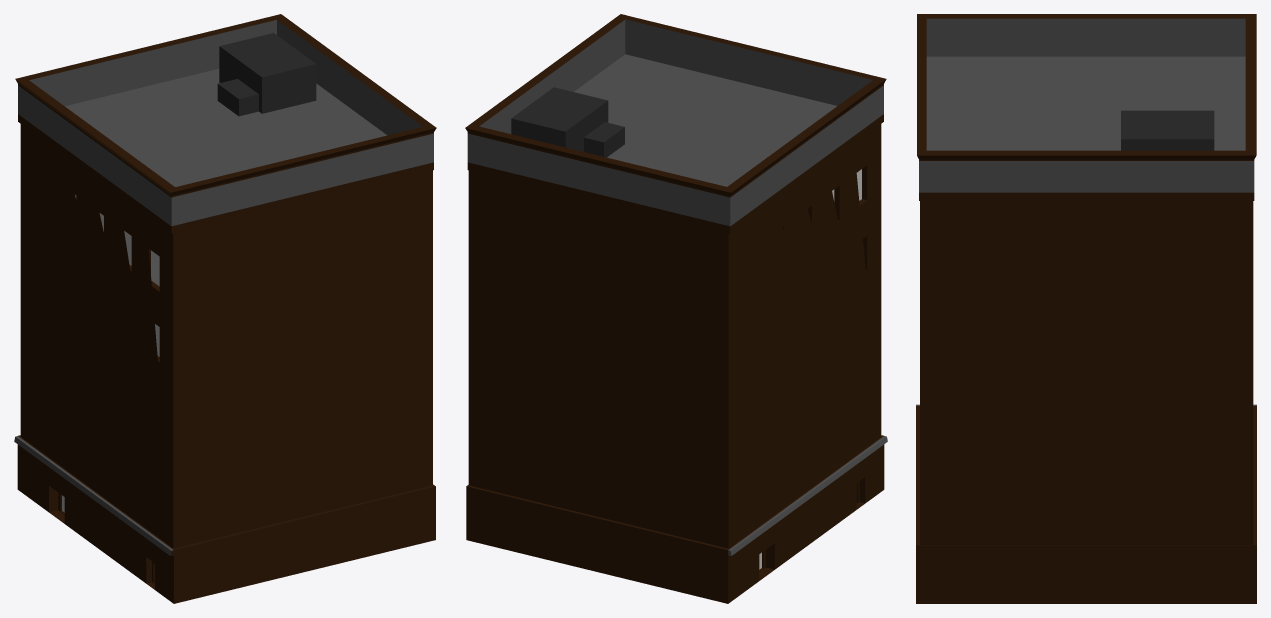
The model's file is AptBuilding 1.fbx.
The picture shows the model from 3 angles, left to right: view 1: azimuth 30°, elevation 25°; view 2: azimuth 150°, elevation 25°; view 3: azimuth 270°, elevation 25°; orthographic projection. The views are drawn at different scales.
Parts seen in each view (by area): view 1: BottomFloor.002_Cube.013; view 2: BottomFloor.002_Cube.013; view 3: BottomFloor.002_Cube.013.
Part boxes in pixels (left/top/right/bottom): BottomFloor.002_Cube.013: left=14, top=14, right=436, bottom=603; BottomFloor.002_Cube.013: left=465, top=14, right=887, bottom=603; BottomFloor.002_Cube.013: left=916, top=14, right=1256, bottom=603.
Size of the model in its own units: 1188 by 1759 by 1205.
